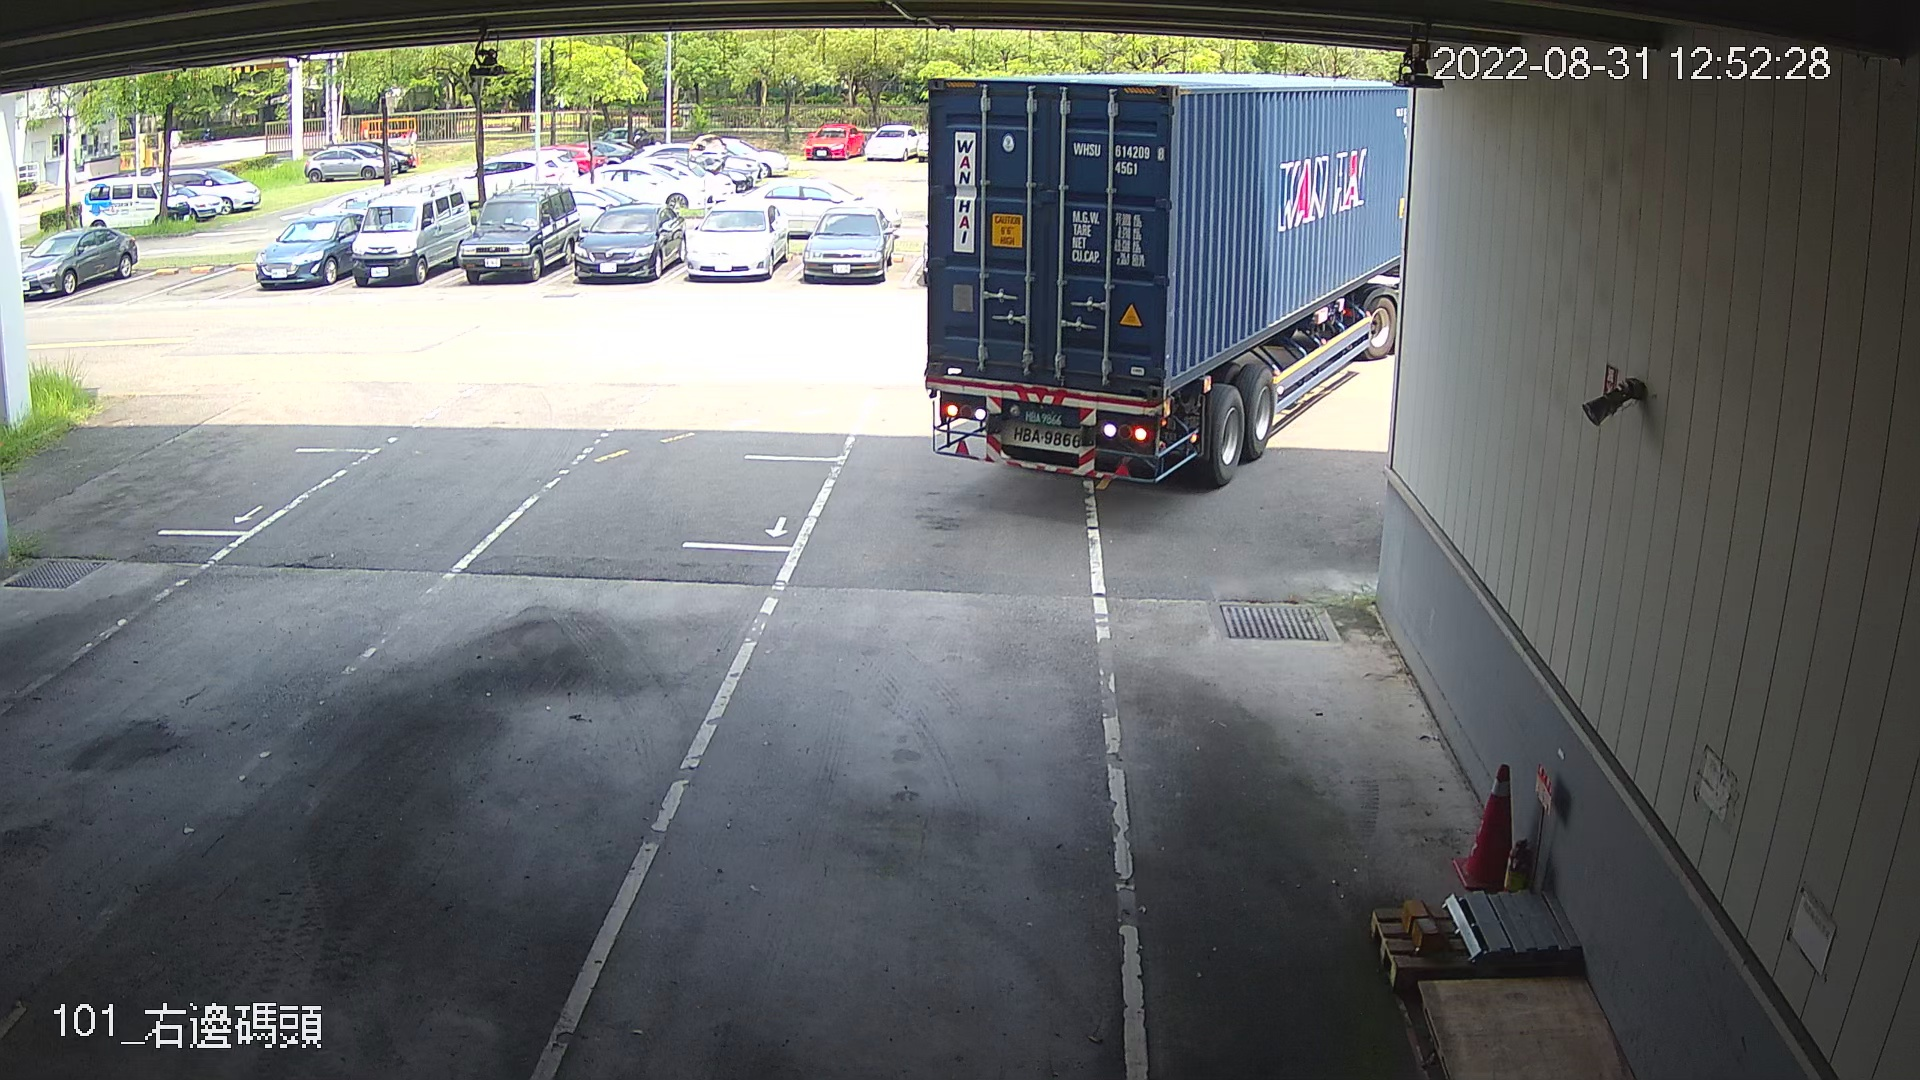container: (1067, 132, 1170, 182)
